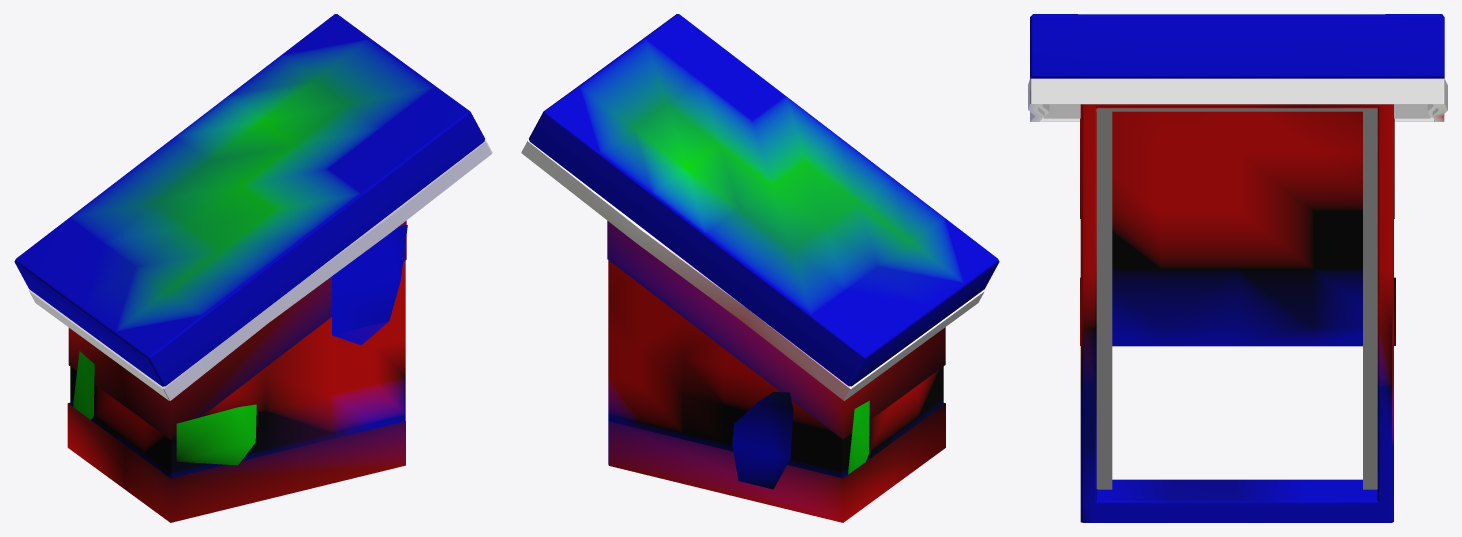
The model's file is ExtraBuilding_C_Snaps004.FBX.
The picture shows the model from 3 angles, left to right: view 1: azimuth 30°, elevation 25°; view 2: azimuth 150°, elevation 25°; view 3: azimuth 270°, elevation 25°; orthographic projection. The views are drawn at different scales.
Visible parts, largest first — view 1: Geometry_ExtraBuilding_C_LOD00, Geometry_Decal_B_LOD00, Geometry_Decal_C_LOD00; view 2: Geometry_ExtraBuilding_C_LOD00, Geometry_Decal_B_LOD00, Geometry_Decal_C_LOD00; view 3: Geometry_ExtraBuilding_C_LOD00, Geometry_WindowsFrame_LOD00.
Boxes of the visible parts, <box> form: Geometry_ExtraBuilding_C_LOD00: <box>14,14,492,478</box>; Geometry_Decal_B_LOD00: <box>67,220,406,522</box>; Geometry_Decal_C_LOD00: <box>73,225,407,465</box>; Geometry_ExtraBuilding_C_LOD00: <box>521,14,999,478</box>; Geometry_Decal_B_LOD00: <box>607,221,945,522</box>; Geometry_Decal_C_LOD00: <box>732,392,869,489</box>; Geometry_ExtraBuilding_C_LOD00: <box>1028,14,1447,522</box>; Geometry_WindowsFrame_LOD00: <box>1096,108,1377,489</box>.
Size of what is drawn, in the model's own units: 293 by 287 by 201.
